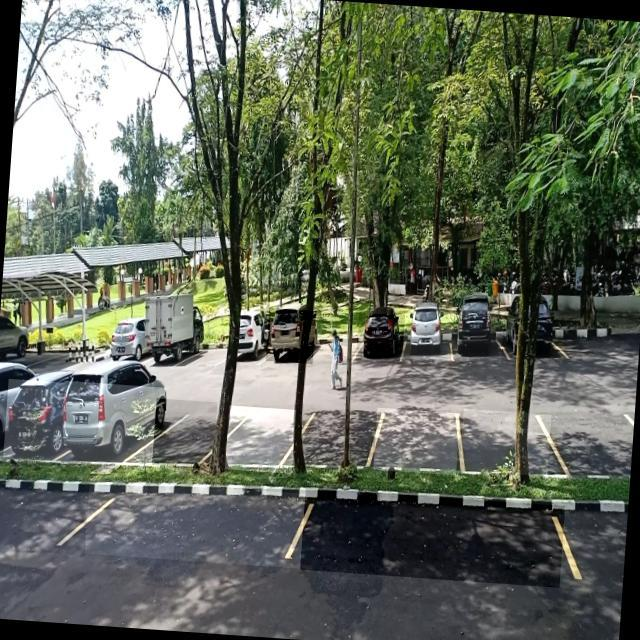empty: (300, 488, 564, 588), (84, 478, 305, 568), (459, 408, 551, 476), (373, 408, 460, 476), (296, 406, 381, 474), (224, 405, 296, 473), (152, 398, 217, 469), (313, 326, 358, 368)
occupied: (59, 380, 165, 467), (3, 378, 66, 462), (451, 304, 505, 362), (402, 306, 455, 362), (265, 307, 316, 363), (356, 312, 405, 364)
